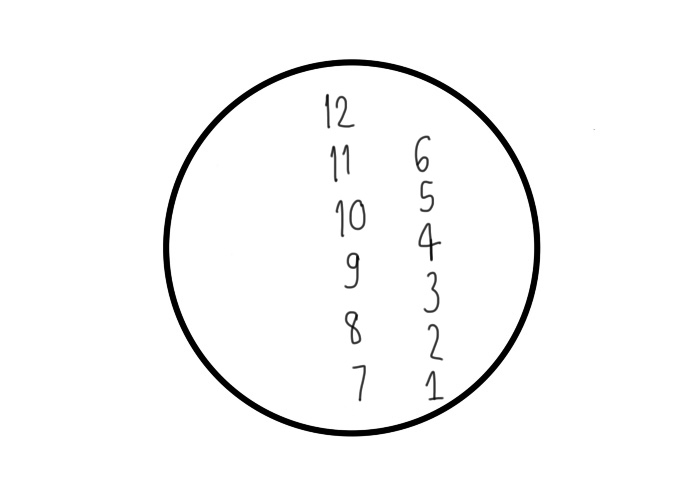eight: (342, 307, 362, 345)
eleven: (327, 143, 352, 183)
five: (418, 176, 436, 215)
four: (416, 221, 442, 263)
nine: (340, 251, 362, 292)
one: (422, 368, 444, 403)
seven: (351, 362, 368, 402)
six: (411, 130, 433, 175)
ten: (333, 195, 367, 240)
three: (419, 269, 441, 316)
twelve: (322, 91, 357, 132)
two: (423, 319, 445, 363)
